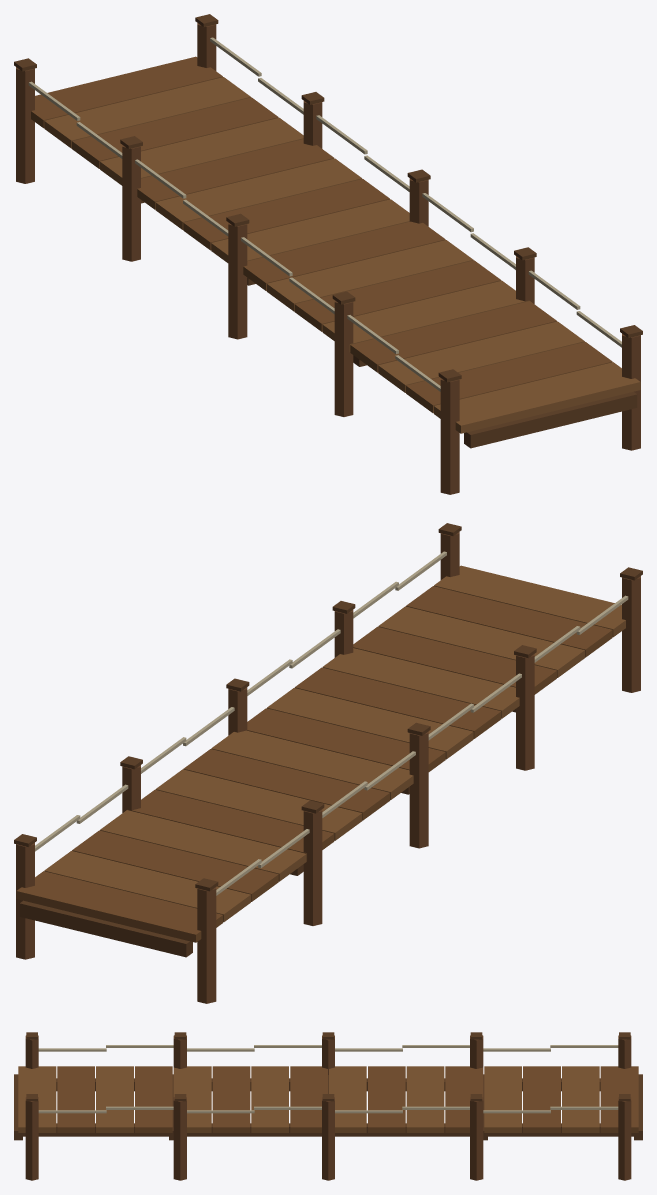
Rendered from dock_wood.glb.
The picture shows the model from 3 angles, top to bottom: view 1: azimuth 30°, elevation 25°; view 2: azimuth 150°, elevation 25°; view 3: azimuth 270°, elevation 25°; orthographic projection. The views are drawn at different scales.
Visible parts, largest first — view 1: dock_wood; view 2: dock_wood; view 3: dock_wood.
Boxes of the visible parts, x1,y1,x2,y2 form: dock_wood: [14, 14, 642, 494]; dock_wood: [14, 523, 642, 1003]; dock_wood: [14, 1032, 642, 1180].
Bounding box in the file's own units: 4.68 × 2.6 × 18.26.
